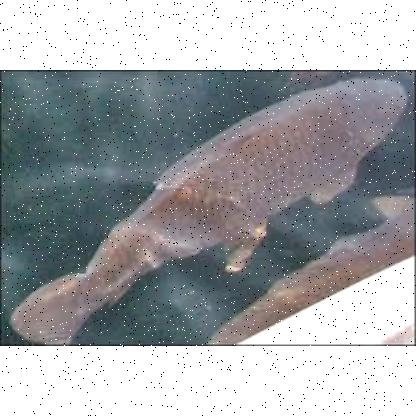ikan-mas: (1, 74, 405, 342)
